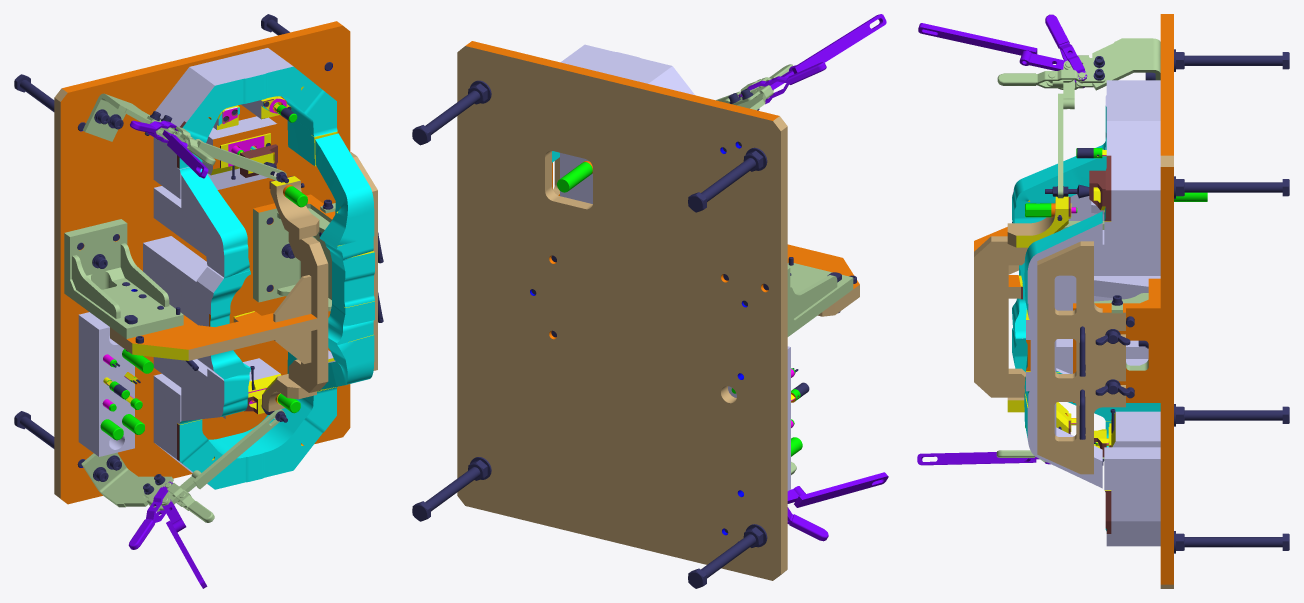
Rendered from TE146377_806D_58015-0E020-TC_K00_260722_KEN.obj.
3 views of the same model, side by side, from view 1: azimuth 30°, elevation 25°; view 2: azimuth 150°, elevation 25°; view 3: azimuth 270°, elevation 25° (orthographic). The views are drawn at different scales.
Visible parts, largest first — view 1: Shell_020, Shell_149, Shell_082, Shell_012, Shell_006, Shell_233, Shell_017, Shell_081, Shell_130, Shell_004, Shell_080, Shell_010 (+30 smaller); view 2: Shell_020, Shell_082, Shell_012, Shell_081, Shell_152, Shell_179, Shell_227, Shell_221, Shell_230, Shell_224, Shell_018, Shell_153 (+1 smaller); view 3: Shell_148, Shell_020, Shell_012, Shell_080, Shell_149, Shell_130, Shell_006, Shell_017, Shell_004, Shell_016, Shell_015, Shell_019 (+22 smaller).
Boxes of the visible parts, box(x1,y1,x2,y2) form: Shell_020: box(54, 21, 350, 504); Shell_149: box(315, 133, 374, 389); Shell_082: box(64, 219, 183, 338); Shell_012: box(153, 48, 314, 167); Shell_006: box(143, 236, 250, 378); Shell_233: box(78, 312, 134, 456); Shell_017: box(153, 373, 314, 489); Shell_081: box(110, 311, 317, 360); Shell_130: box(253, 194, 335, 311); Shell_004: box(181, 169, 249, 277); Shell_080: box(288, 232, 328, 392); Shell_010: box(181, 368, 249, 421); Shell_020: box(457, 41, 787, 580); Shell_082: box(787, 263, 853, 336); Shell_012: box(560, 44, 694, 94); Shell_081: box(787, 244, 859, 316); Shell_152: box(792, 14, 886, 73); Shell_179: box(794, 472, 888, 507); Shell_227: box(412, 90, 480, 145); Shell_221: box(688, 534, 755, 588); Shell_230: box(688, 158, 755, 212); Shell_224: box(412, 467, 480, 521); Shell_018: box(560, 153, 592, 203); Shell_153: box(738, 62, 826, 104); Shell_148: box(1037, 241, 1125, 474); Shell_020: box(1160, 14, 1173, 588); Shell_012: box(1105, 80, 1160, 221); Shell_080: box(974, 236, 1027, 397); Shell_149: box(1024, 211, 1102, 488); Shell_130: box(1073, 278, 1160, 402); Shell_006: box(1012, 230, 1160, 341); Shell_017: box(1105, 490, 1160, 546); Shell_004: box(1012, 145, 1102, 223); Shell_016: box(1104, 447, 1160, 490); Shell_015: box(1104, 210, 1160, 252); Shell_019: box(1111, 411, 1160, 447).
Size of the model in its own units: 405 by 571 by 428.
